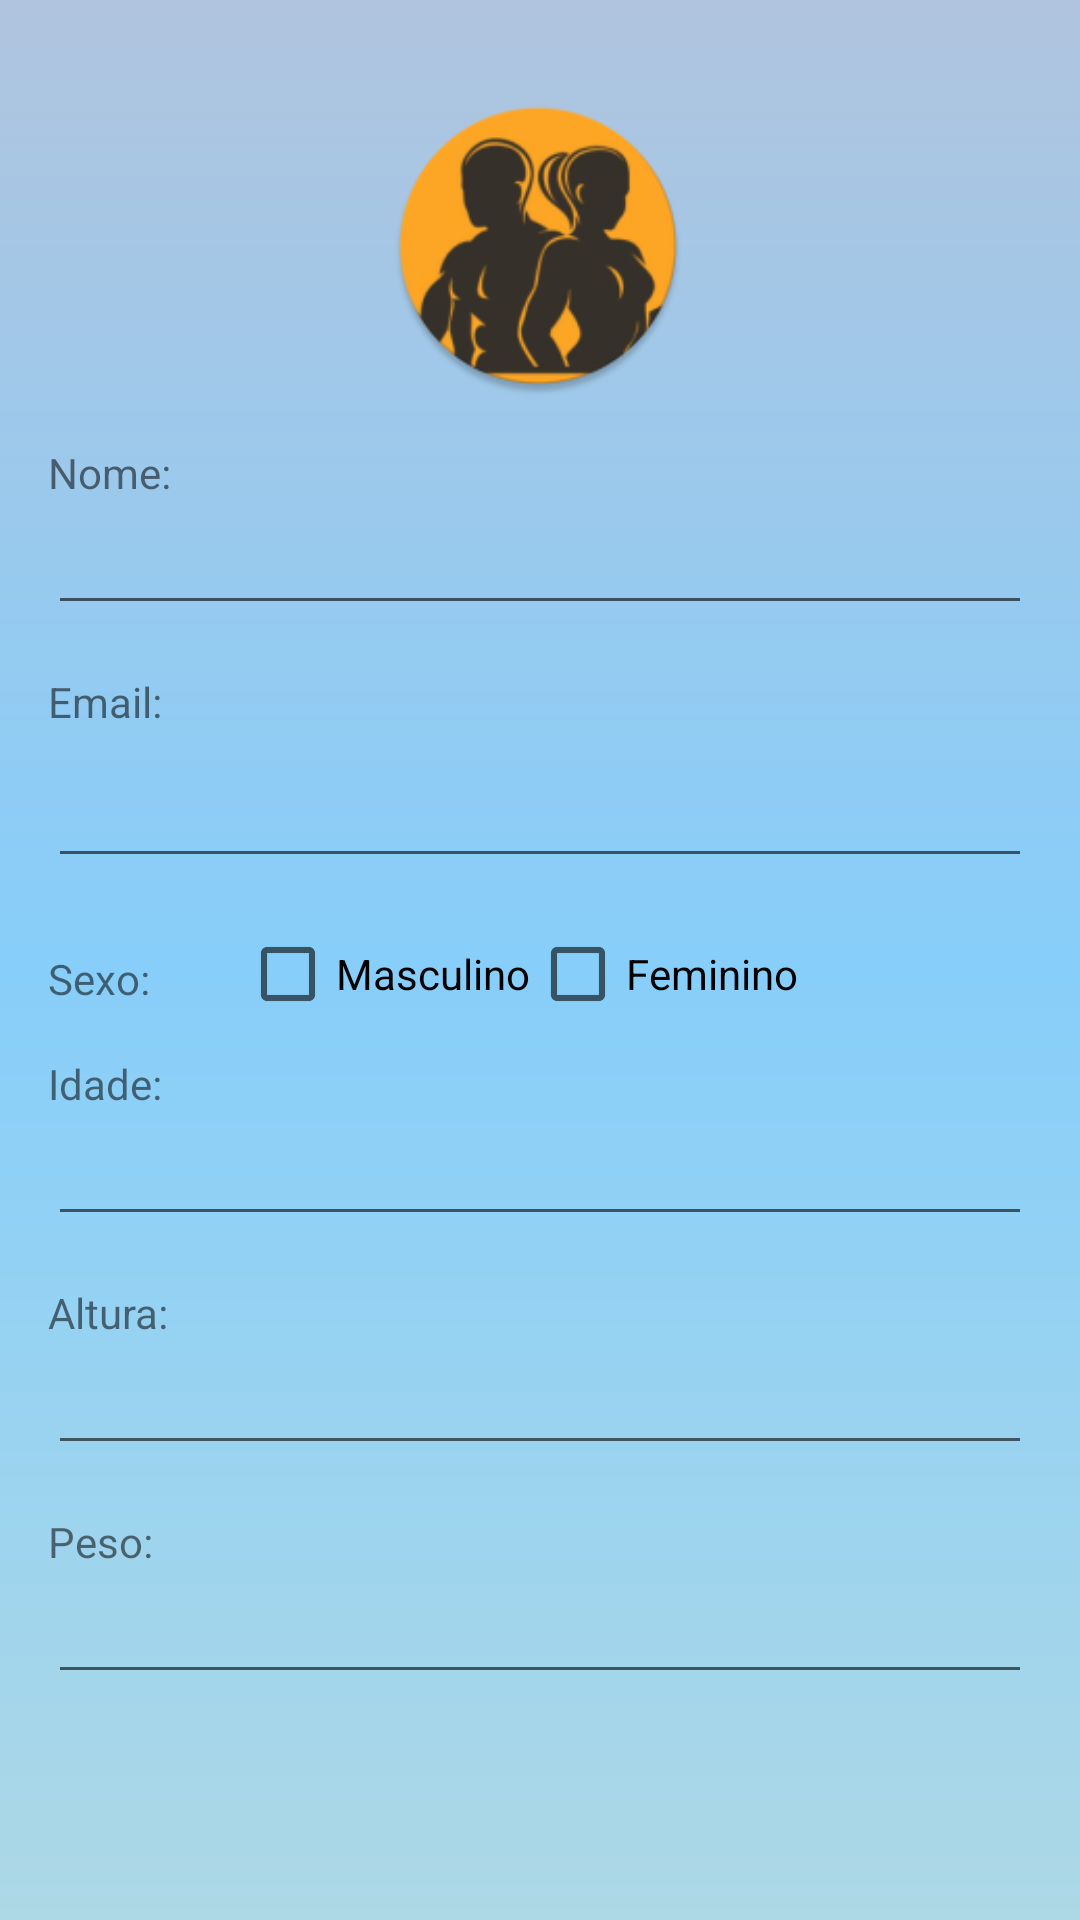

Icons on this 1080px×1920px Android screen, each with its box as (left=x1, top=y1, right=x2, bottom=y2):
personal round: (left=399, top=107, right=678, bottom=392)
